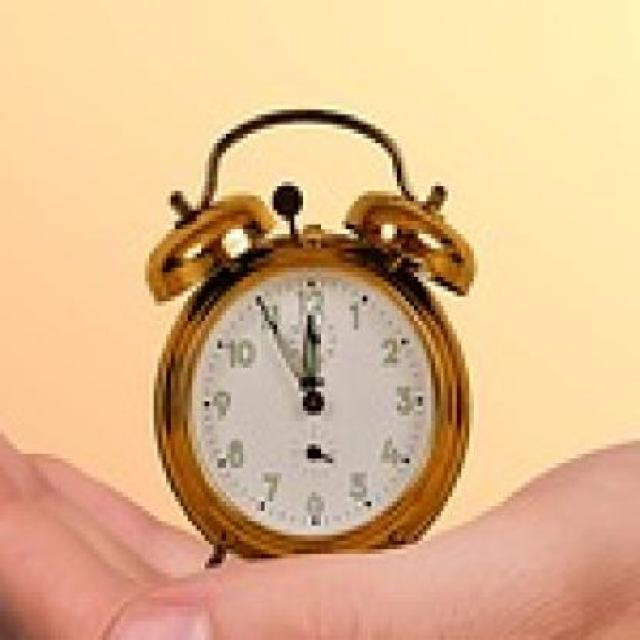clock: (202, 277, 422, 542)
